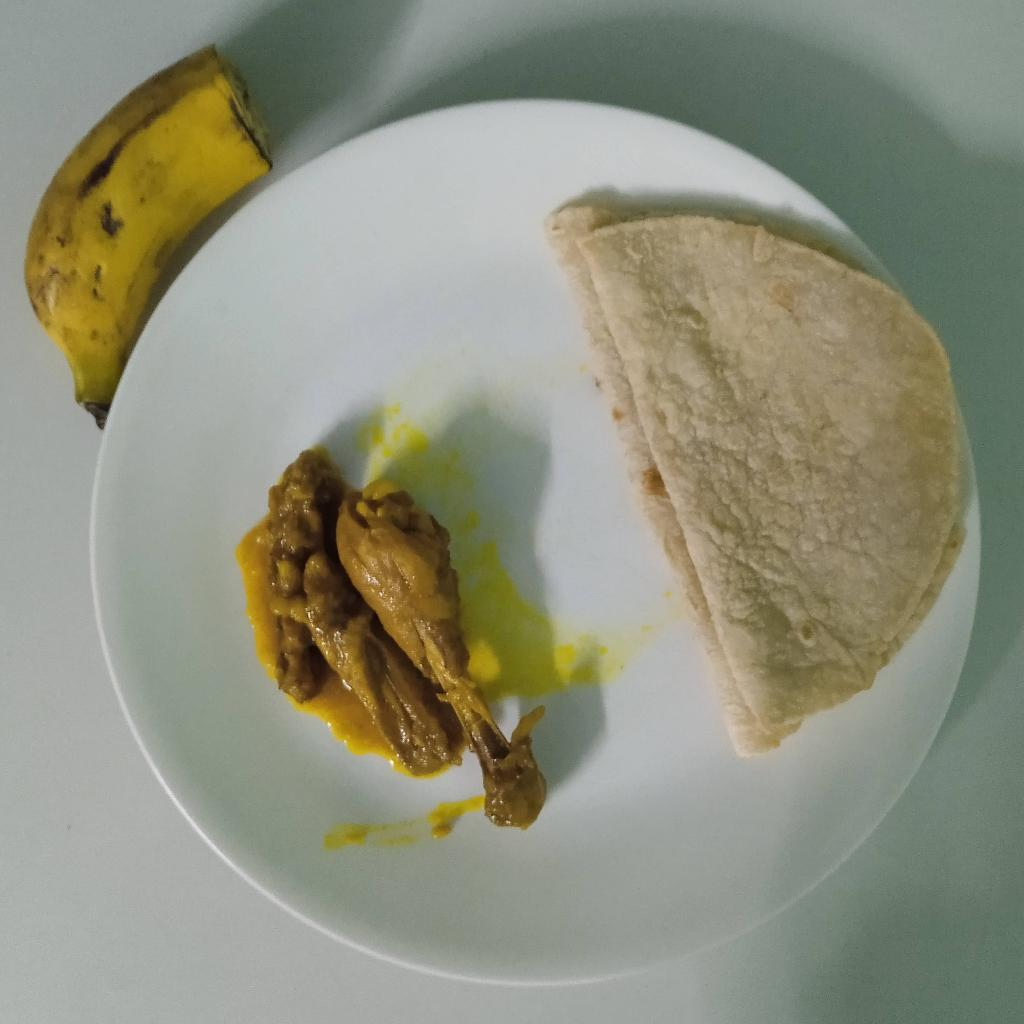banana: (21, 43, 279, 429)
chicken: (267, 452, 546, 837)
ruti: (546, 207, 971, 757)
